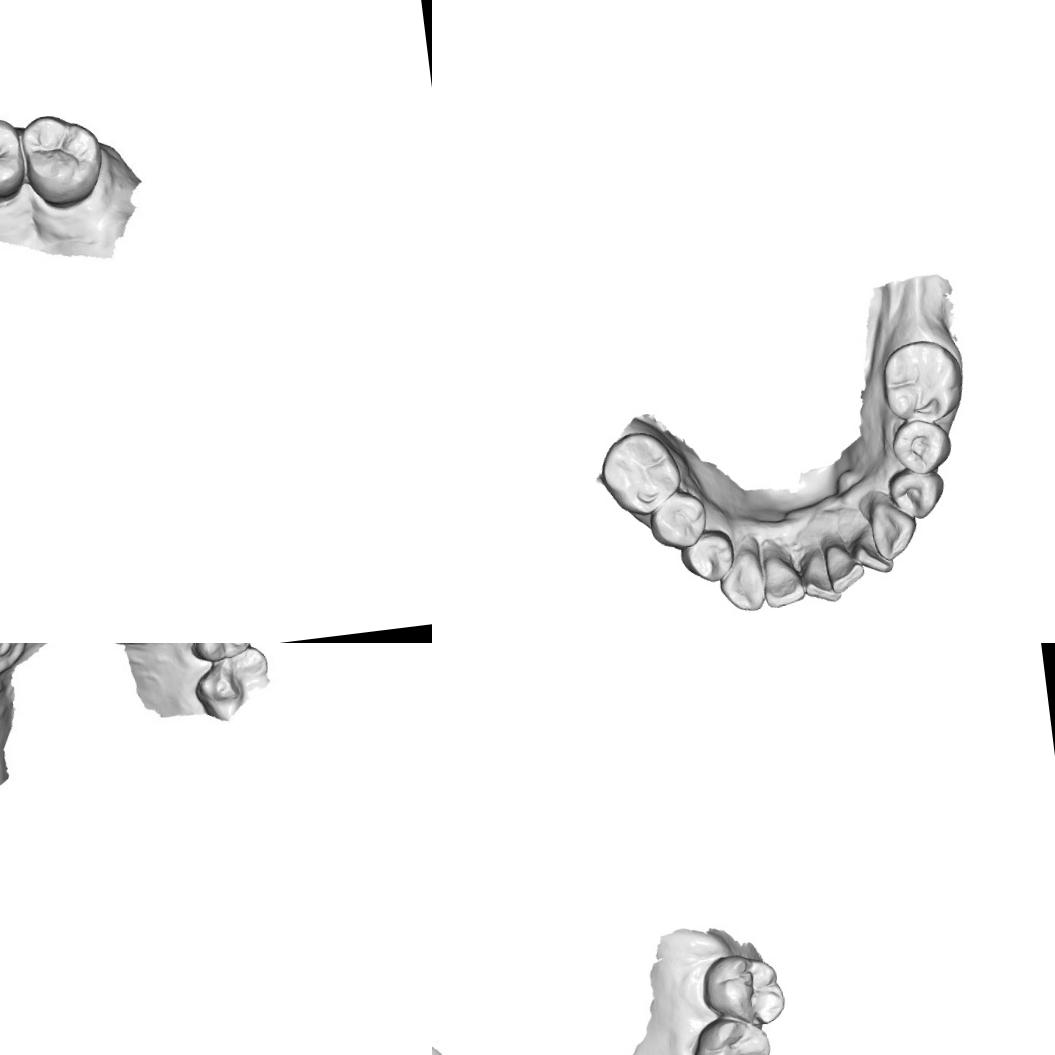canine: (866, 496, 922, 565), (714, 546, 768, 617)
incisor: (758, 547, 808, 611), (797, 541, 842, 608), (822, 531, 867, 596), (851, 523, 895, 578)
molar: (16, 107, 108, 212), (593, 426, 686, 522), (876, 334, 967, 430), (696, 948, 788, 1032), (190, 648, 279, 724), (688, 1011, 778, 1055), (0, 103, 30, 209)
premolar: (643, 488, 710, 554), (887, 416, 957, 479), (676, 526, 739, 590), (886, 463, 950, 525), (186, 643, 257, 665)
